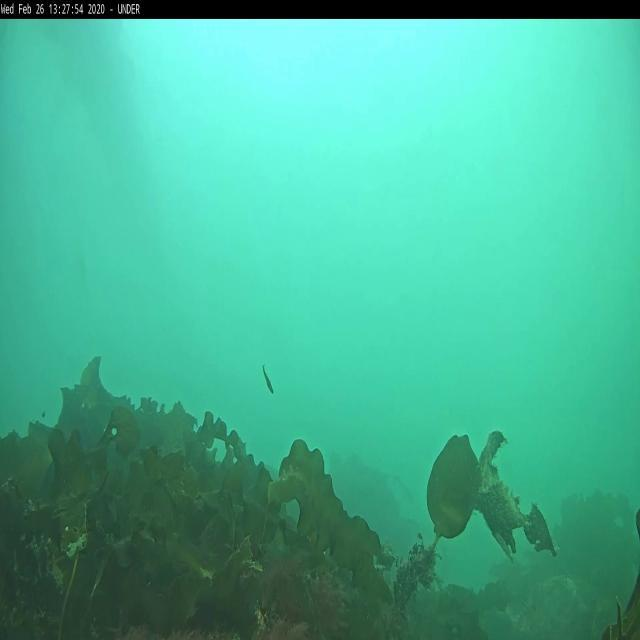fish: (262, 368, 276, 397)
